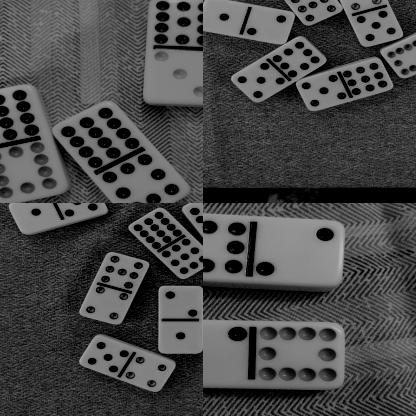pip-1: (157, 319, 203, 354), (9, 203, 58, 234), (203, 0, 246, 35)
pip-10: (252, 322, 347, 390), (0, 142, 66, 203), (382, 39, 416, 77)
pip-11: (147, 0, 203, 47)
pip-12: (54, 101, 139, 166), (0, 82, 41, 144), (129, 207, 182, 250)
pip-2: (250, 218, 346, 286), (203, 319, 251, 388), (245, 6, 296, 44), (159, 286, 203, 319)
pip-3: (143, 50, 203, 104)
pip-4: (79, 286, 130, 324), (127, 353, 176, 392), (335, 0, 382, 9)
pip-5: (232, 62, 286, 103), (297, 74, 348, 112), (80, 334, 130, 372), (357, 7, 404, 45), (57, 203, 108, 217)
pip-6: (183, 203, 203, 232)
pip-7: (101, 250, 151, 288), (291, 0, 342, 25)
pip-8: (102, 153, 190, 203), (203, 212, 249, 280), (274, 36, 328, 77)
pip-9: (344, 57, 394, 95), (161, 238, 203, 278)
